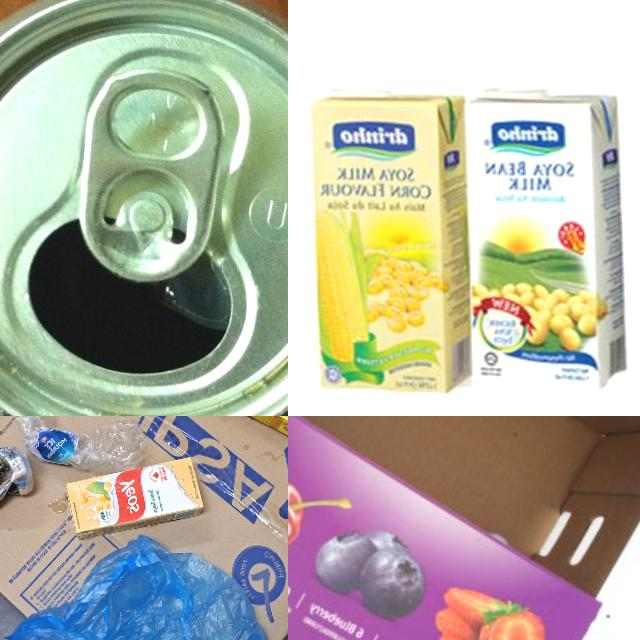aba de lata: (77, 60, 227, 283)
caixinha: (468, 84, 624, 390), (312, 88, 460, 384), (65, 457, 204, 540), (454, 208, 461, 210)
garrafa plástica: (11, 416, 147, 474)
lata: (0, 0, 288, 416), (0, 445, 35, 535)
papelão: (288, 416, 640, 640), (0, 416, 288, 640)
sacola plástica: (2, 531, 288, 640)
